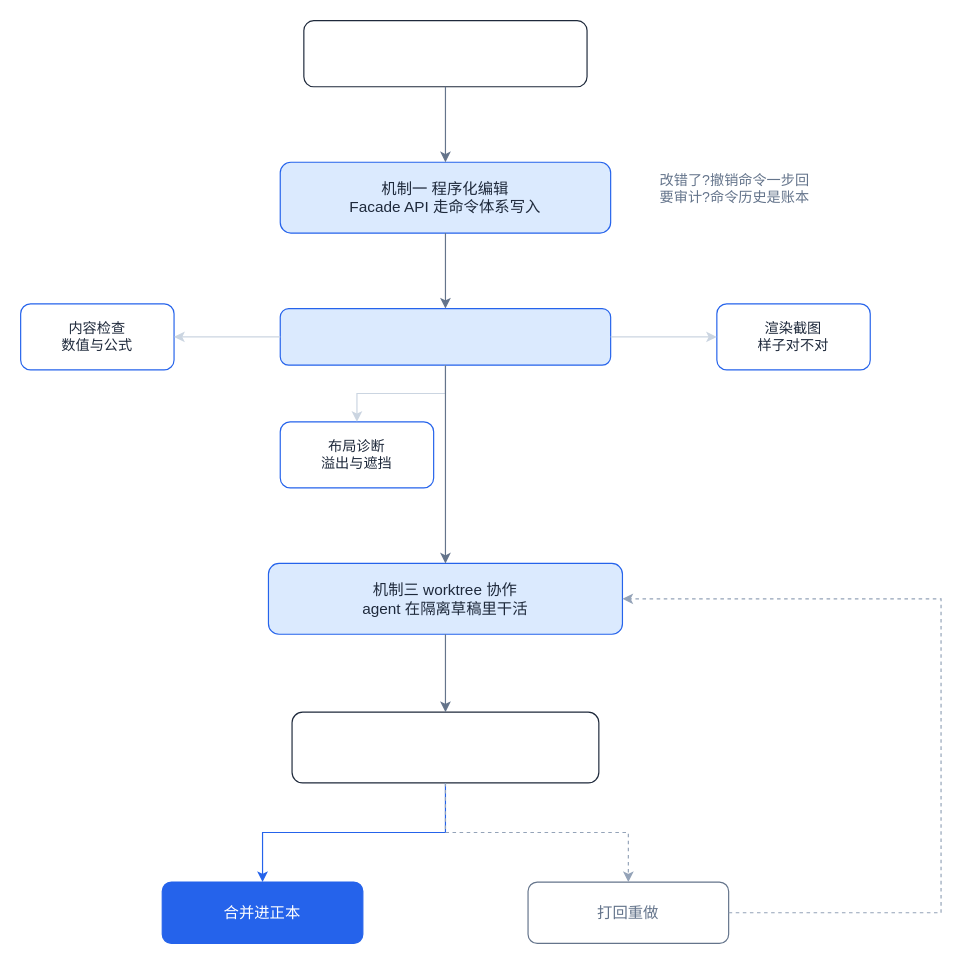
Image size: 971x964. Some labels were removed from this diagram. The centre of each missing label's shape, as x and y in pixels:
"agent 接到办公任务 「做一份对账表」" belongs at pixel 445 53.
"人审 业务判断:折扣量级对不对" belongs at pixel 445 747.
"机制二 输出验证" belongs at pixel 445 336.
